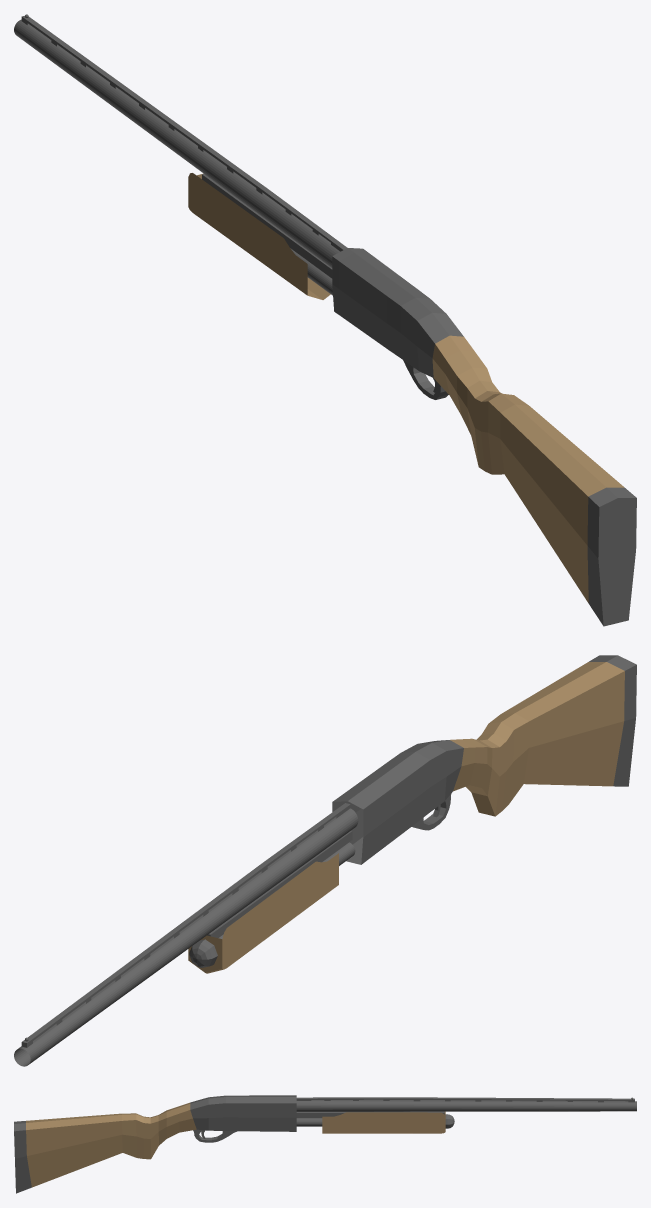
The model's file is Shotgun.fbx.
3 renders of one model, top to bottom at view 1: azimuth 30°, elevation 25°; view 2: azimuth 150°, elevation 25°; view 3: azimuth 270°, elevation 25°, orthographic. The views are drawn at different scales.
Parts seen in each view (by area): view 1: Cube; view 2: Cube; view 3: Cube.
Boxes of the visible parts, x1,y1,x2,y2 form: Cube: (14, 14, 636, 626); Cube: (14, 655, 636, 1066); Cube: (14, 1095, 636, 1193).
Bounding box in the file's own units: 4.45 × 20.2 × 122.
